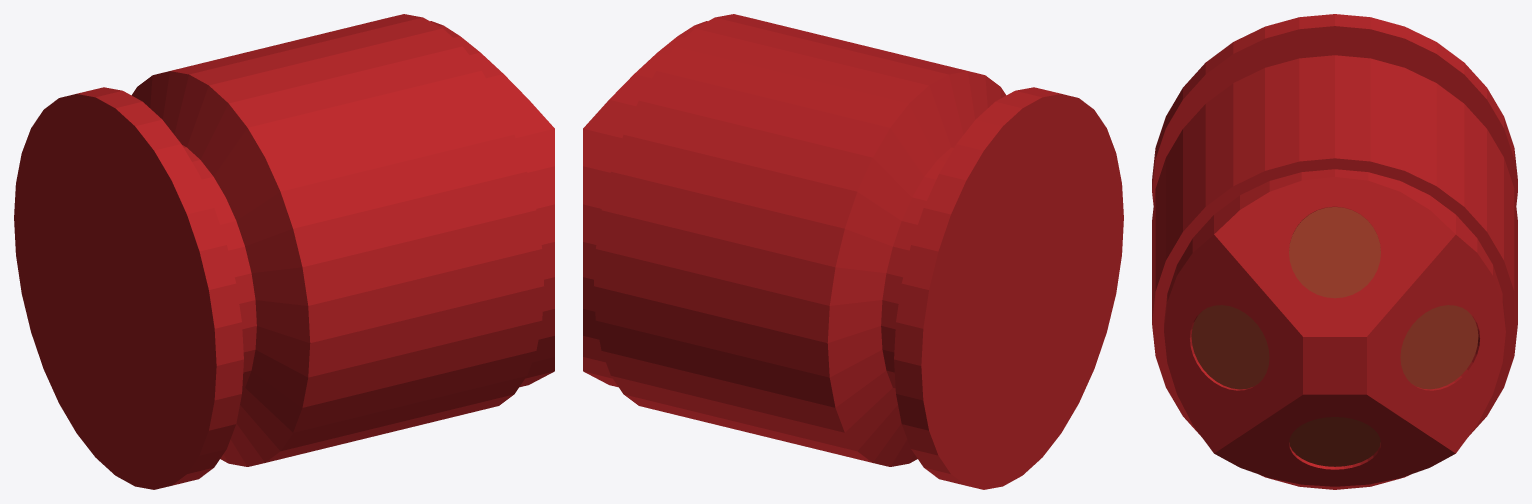
The model's file is dvl.dae.
3 renders of one model, left to right at view 1: azimuth 30°, elevation 25°; view 2: azimuth 150°, elevation 25°; view 3: azimuth 270°, elevation 25°, orthographic. The views are drawn at different scales.
Parts seen in each view (by area): view 1: main, base, Cone, head, neck; view 2: main, base, Cone, head, neck; view 3: head, main, base.
Part boxes in pixels (x1=…): main: x1=171, y1=14, x2=543, y2=462; base: x1=14, y1=87, x2=243, y2=489; Cone: x1=131, y1=71, x2=310, y2=466; head: x1=430, y1=21, x2=554, y2=387; neck: x1=182, y1=145, x2=256, y2=391; main: x1=594, y1=14, x2=966, y2=462; base: x1=894, y1=87, x2=1123, y2=489; Cone: x1=827, y1=71, x2=1006, y2=466; head: x1=583, y1=21, x2=707, y2=387; neck: x1=881, y1=145, x2=955, y2=391; head: x1=1164, y1=169, x2=1505, y2=486; main: x1=1152, y1=55, x2=1517, y2=489; base: x1=1152, y1=14, x2=1517, y2=204.
Bounding box in the file's own units: 0.2428 × 0.2019 × 0.2019.
